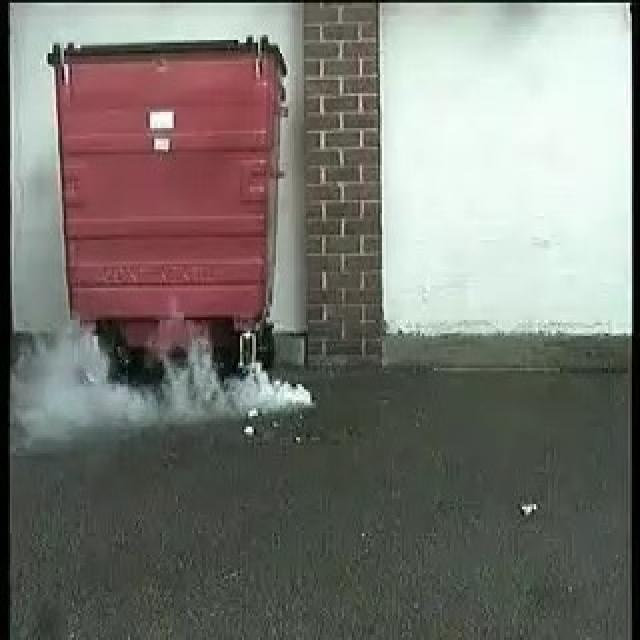smoke: (44, 333, 314, 432)
